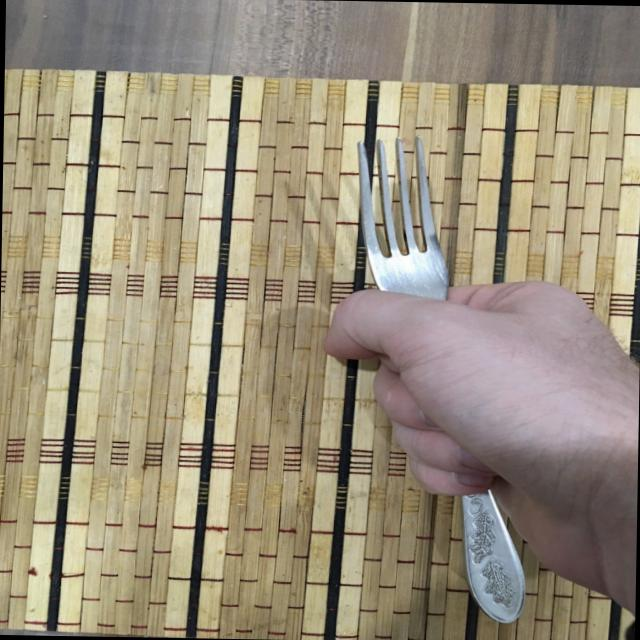fork: (344, 135, 533, 622)
